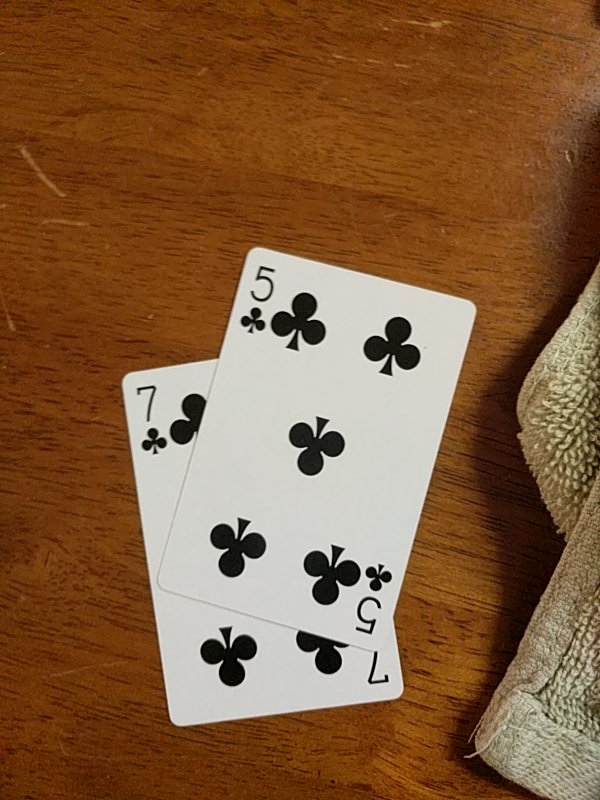Clubs: (158, 243, 476, 641), (122, 358, 408, 729)
